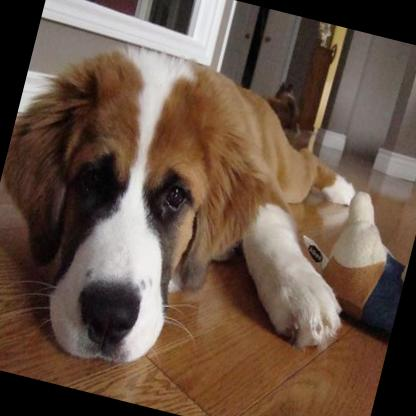Saint_Bernard: (0, 17, 399, 416)
